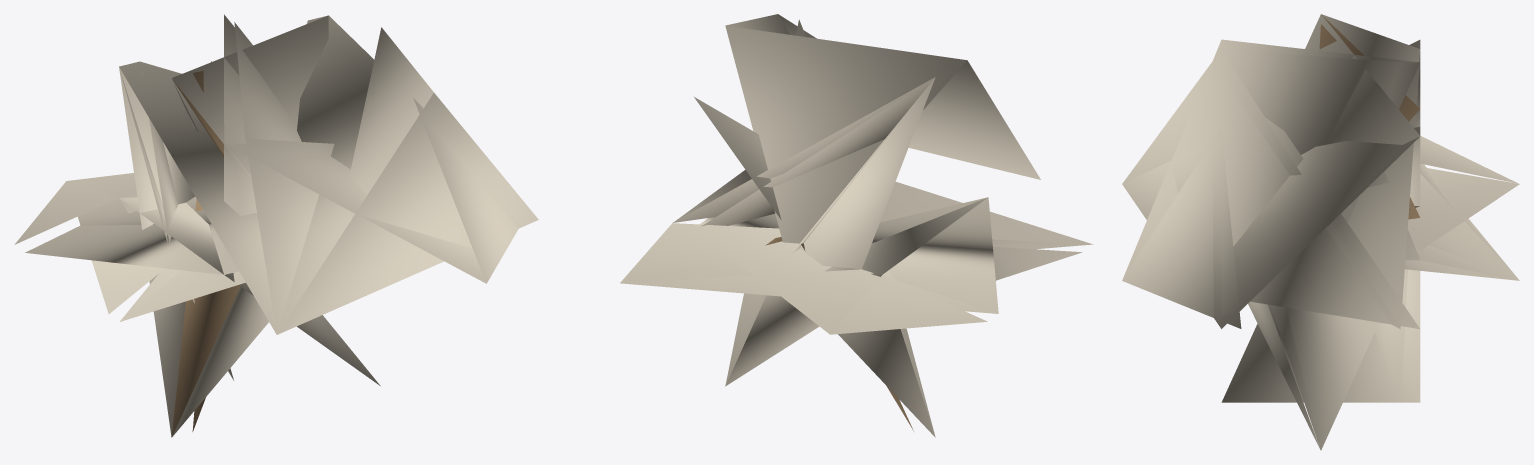
File: building_shell_service.glb
3 views of the same model, side by side, from view 1: azimuth 30°, elevation 25°; view 2: azimuth 150°, elevation 25°; view 3: azimuth 270°, elevation 25° (orthographic). The views are drawn at different scales.
Visible parts, largest first — view 1: building_shell_service; view 2: building_shell_service; view 3: building_shell_service.
Part boxes in pixels (x1=…): building_shell_service: x1=14, y1=14, x2=538, y2=437; building_shell_service: x1=620, y1=14, x2=1093, y2=437; building_shell_service: x1=1122, y1=14, x2=1519, y2=450.
Bounding box in the file's own units: 2.44 × 2 × 2.12.
